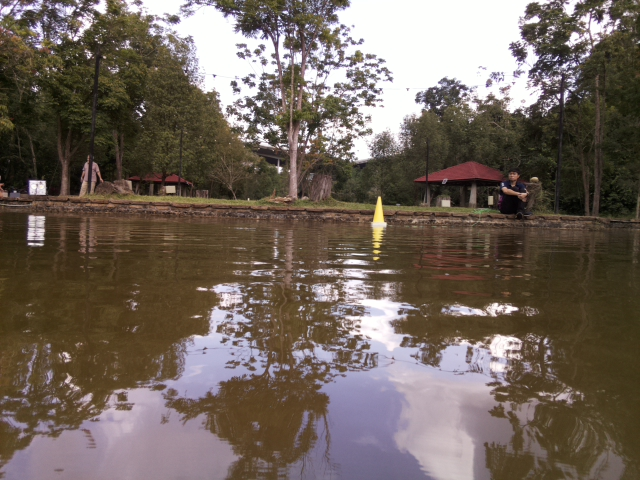checkpoint: (368, 193, 390, 228)
